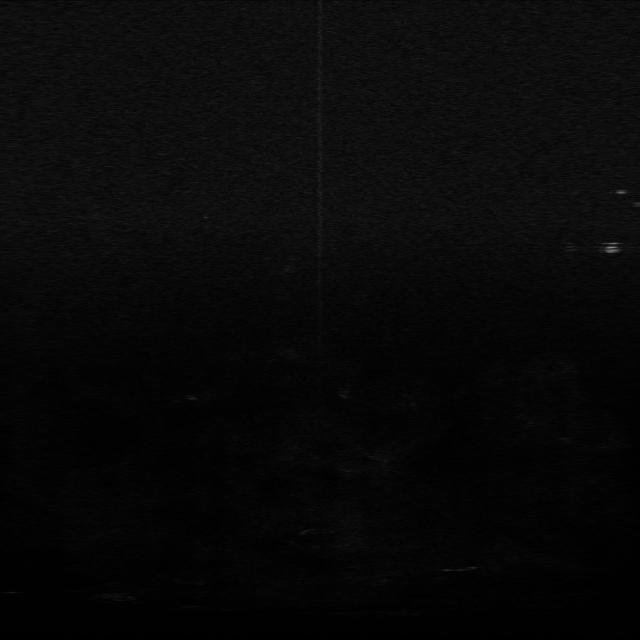rov: (599, 234, 622, 260)
